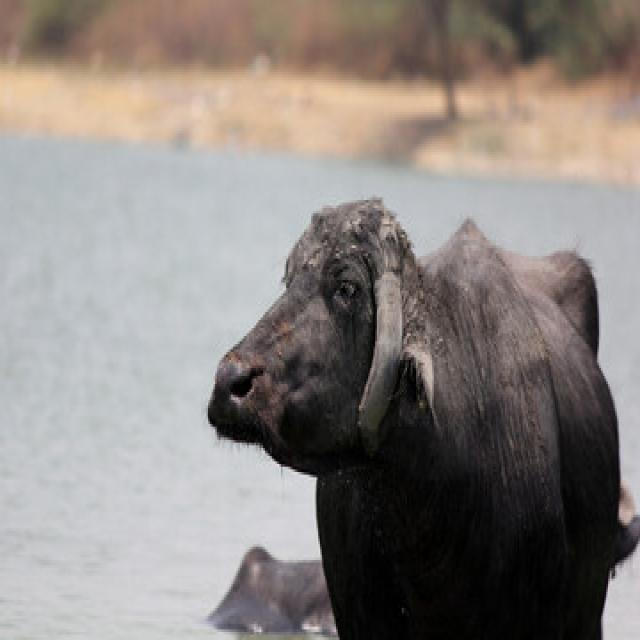Buffalo: (203, 192, 638, 637)
